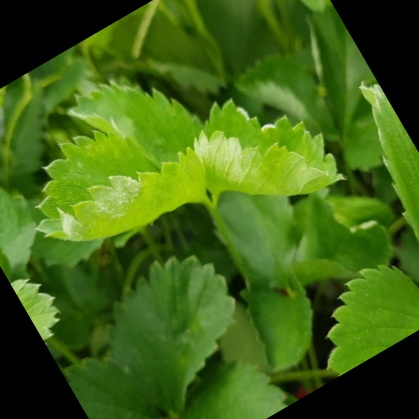Powdery_Leaf: (48, 75, 226, 205), (206, 118, 346, 253)
